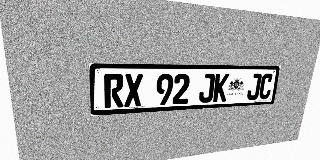2: (172, 74, 190, 104)
9: (156, 74, 174, 105)
C: (258, 73, 274, 100)
J: (198, 74, 215, 103), (246, 74, 262, 100)
K: (213, 74, 229, 102)
R: (104, 74, 124, 108)
X: (124, 74, 143, 107)
